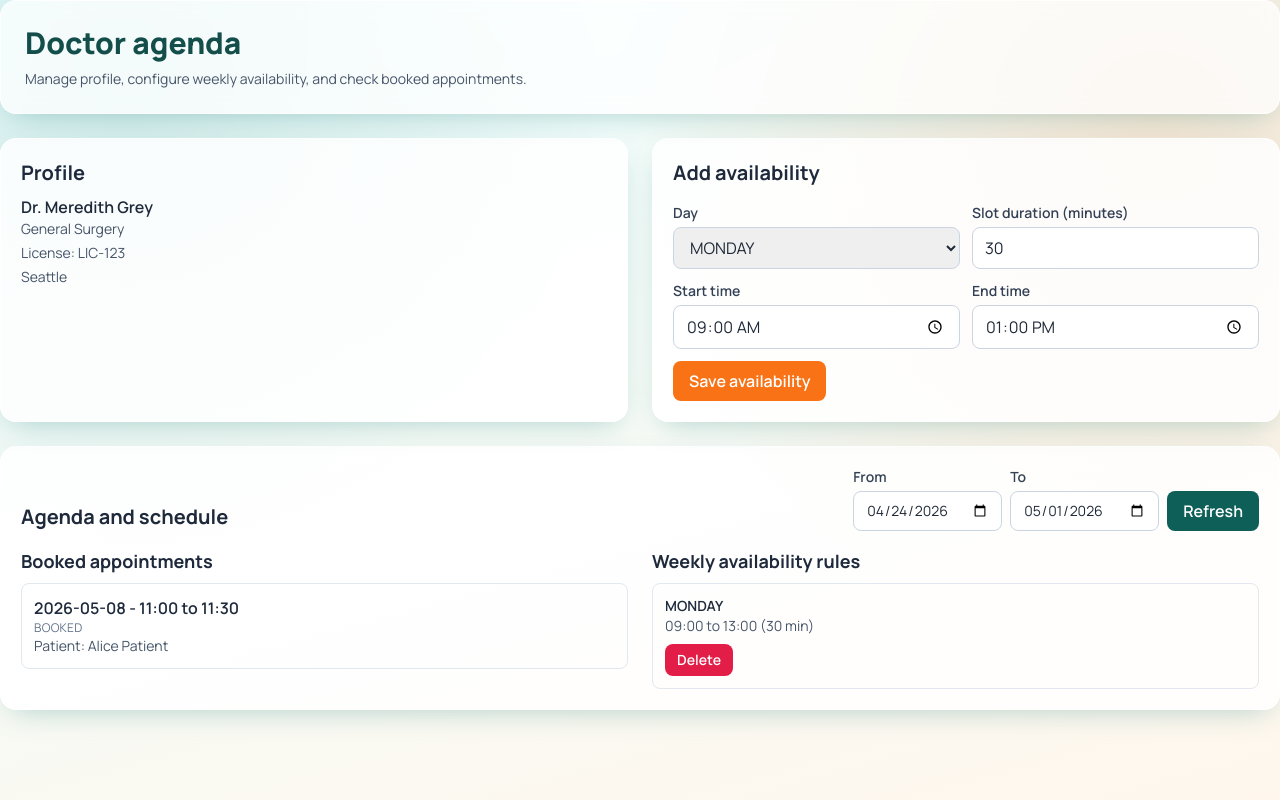
Test: DoctorAgendaPage › loads agenda and schedule for existing profile and creates availability
expect the text "Dr. Meredith Grey" is shown: met, box [21,196,153,218]
expect the heading "Booked appointments" is shown: met, box [21,549,213,573]
Step 1. Click the button "Save availability" → (750, 381), box [673,361,826,401]
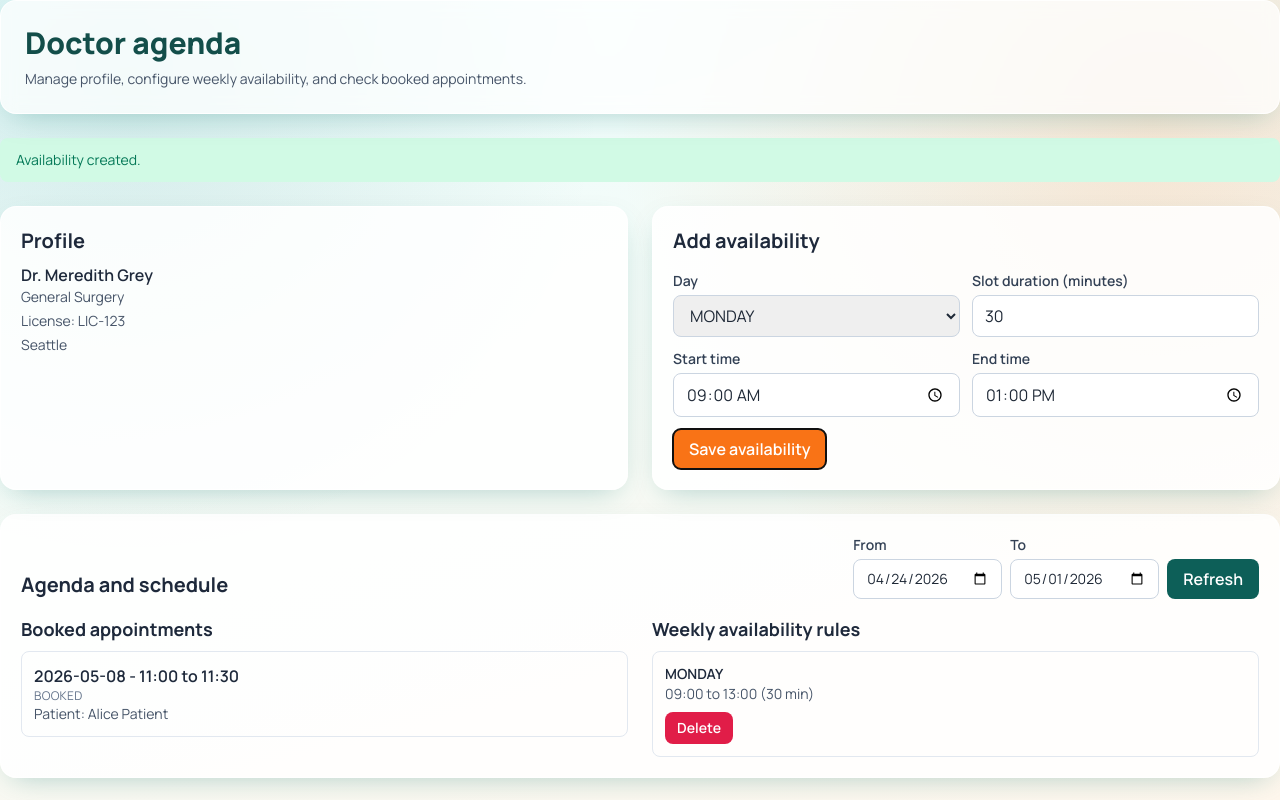
expect the text "Availability created." is shown: met, box [0,138,1279,182]
